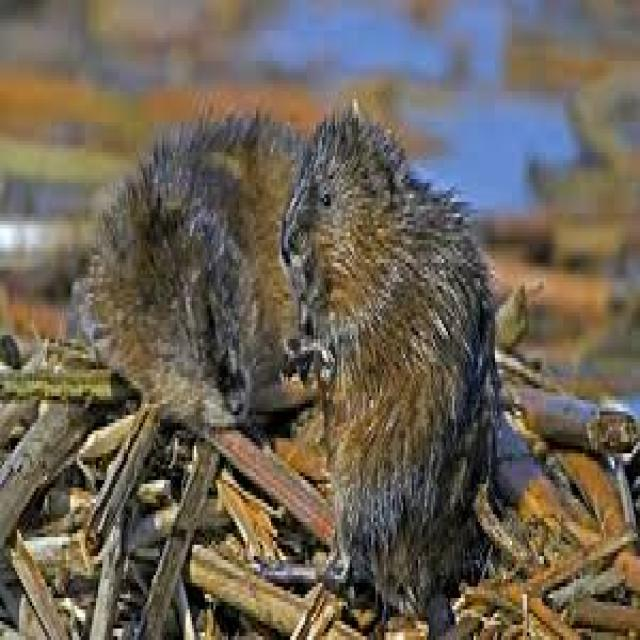rat: (275, 103, 499, 625), (64, 99, 311, 438)
